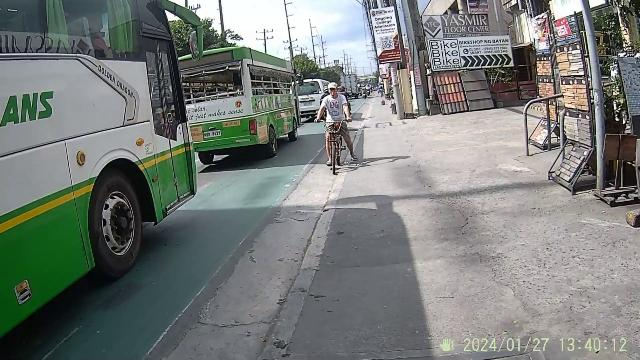utility_post: (254, 26, 276, 56)
